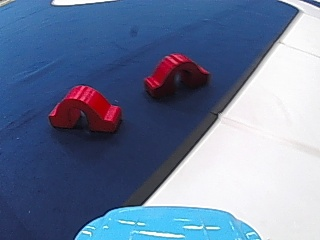bridge: (44, 81, 128, 134), (140, 48, 212, 100)
